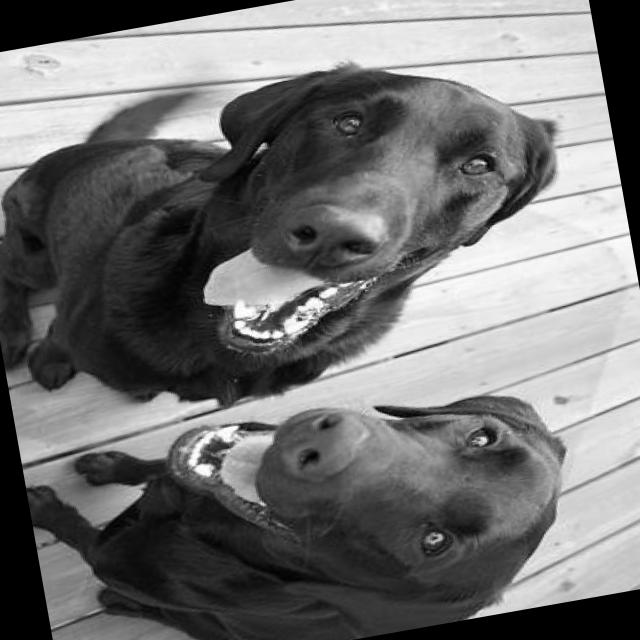sitting: (0, 14, 602, 448), (18, 352, 611, 640)
